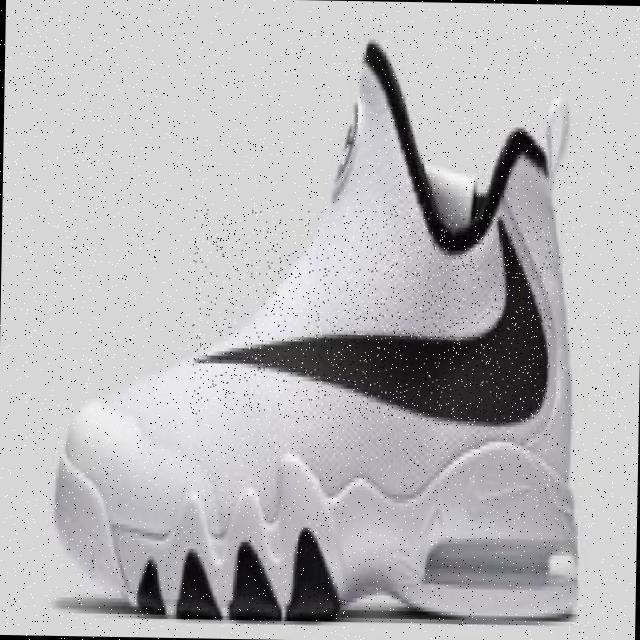Nike: (190, 208, 552, 423)
